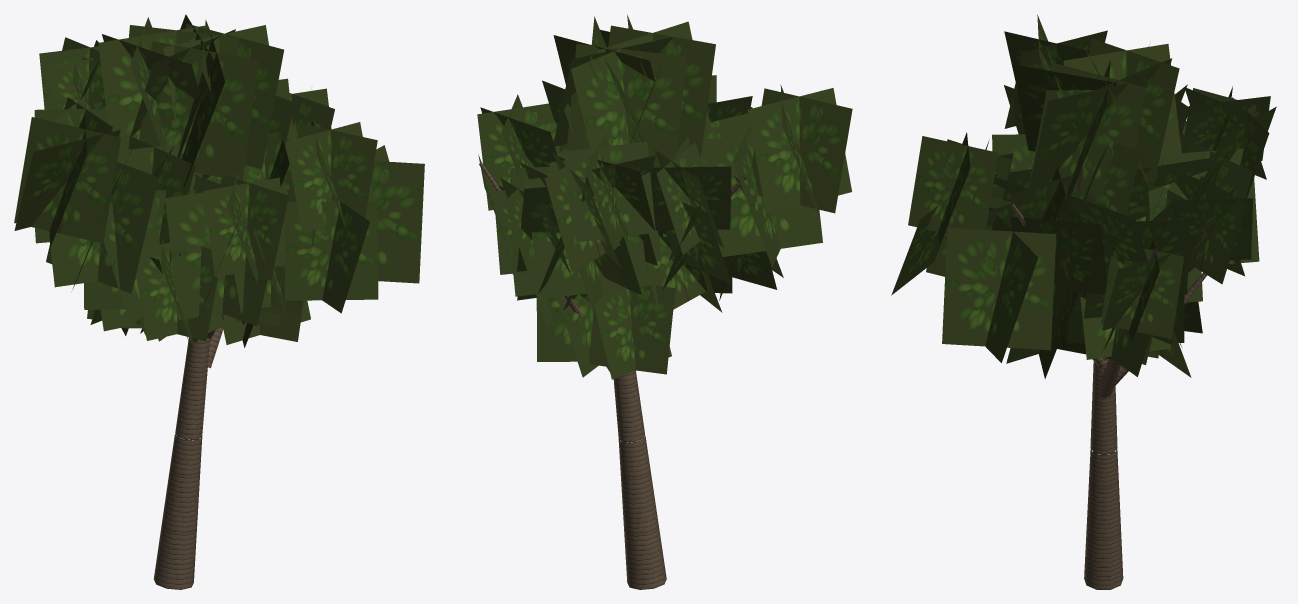
Rendered from SM_Art_Veg_Broadleaf_0.gltf.
3 views of the same model, side by side, from view 1: azimuth 30°, elevation 25°; view 2: azimuth 150°, elevation 25°; view 3: azimuth 270°, elevation 25° (orthographic). The views are drawn at different scales.
Parts seen in each view (by area): view 1: SM_Art_Veg_Broadleaf_0; view 2: SM_Art_Veg_Broadleaf_0; view 3: SM_Art_Veg_Broadleaf_0.
Part boxes in pixels (<box>): SM_Art_Veg_Broadleaf_0: <box>14,14,424,589</box>; SM_Art_Veg_Broadleaf_0: <box>477,15,852,589</box>; SM_Art_Veg_Broadleaf_0: <box>891,14,1276,589</box>.
Size of the model in its own units: 8.32 by 11.64 by 8.16.
Materials: 2 (2 with a texture image).
